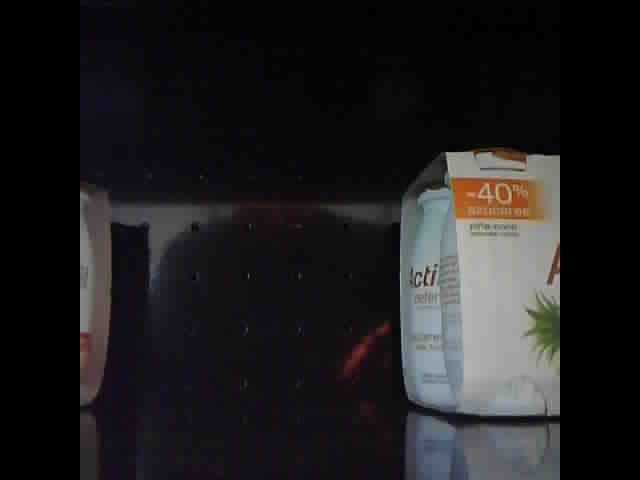actimel: (399, 144, 561, 421)
